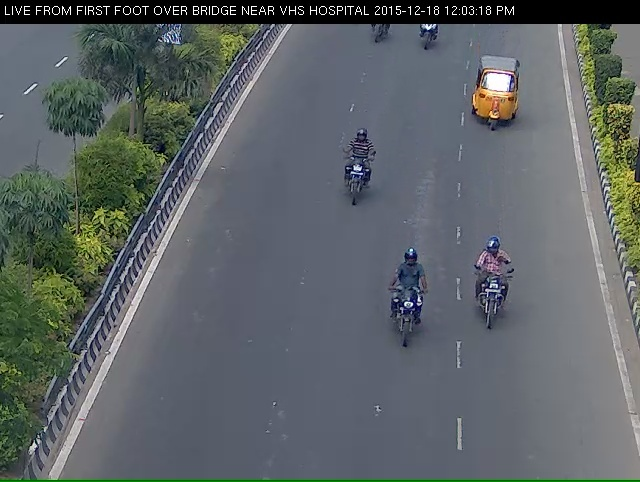Auto: (465, 55, 524, 140)
Person: (379, 283, 432, 374), (469, 266, 513, 350), (332, 149, 375, 227)
